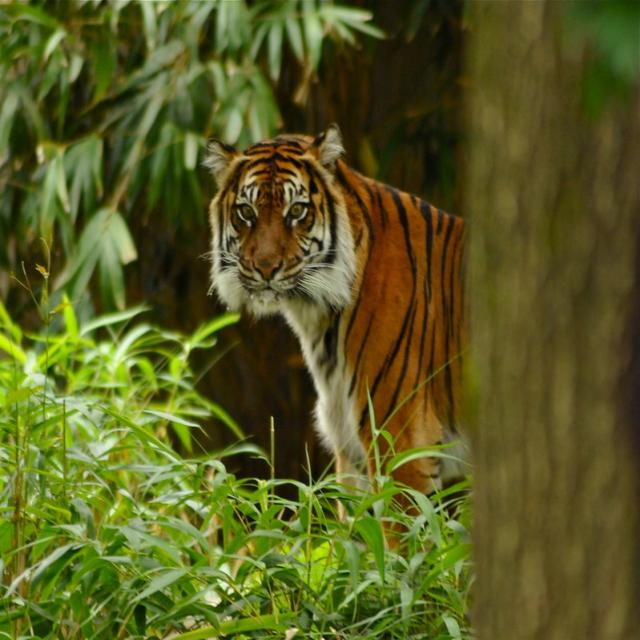Tiger: (198, 120, 481, 552)
